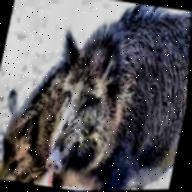boar: (30, 0, 192, 191)
